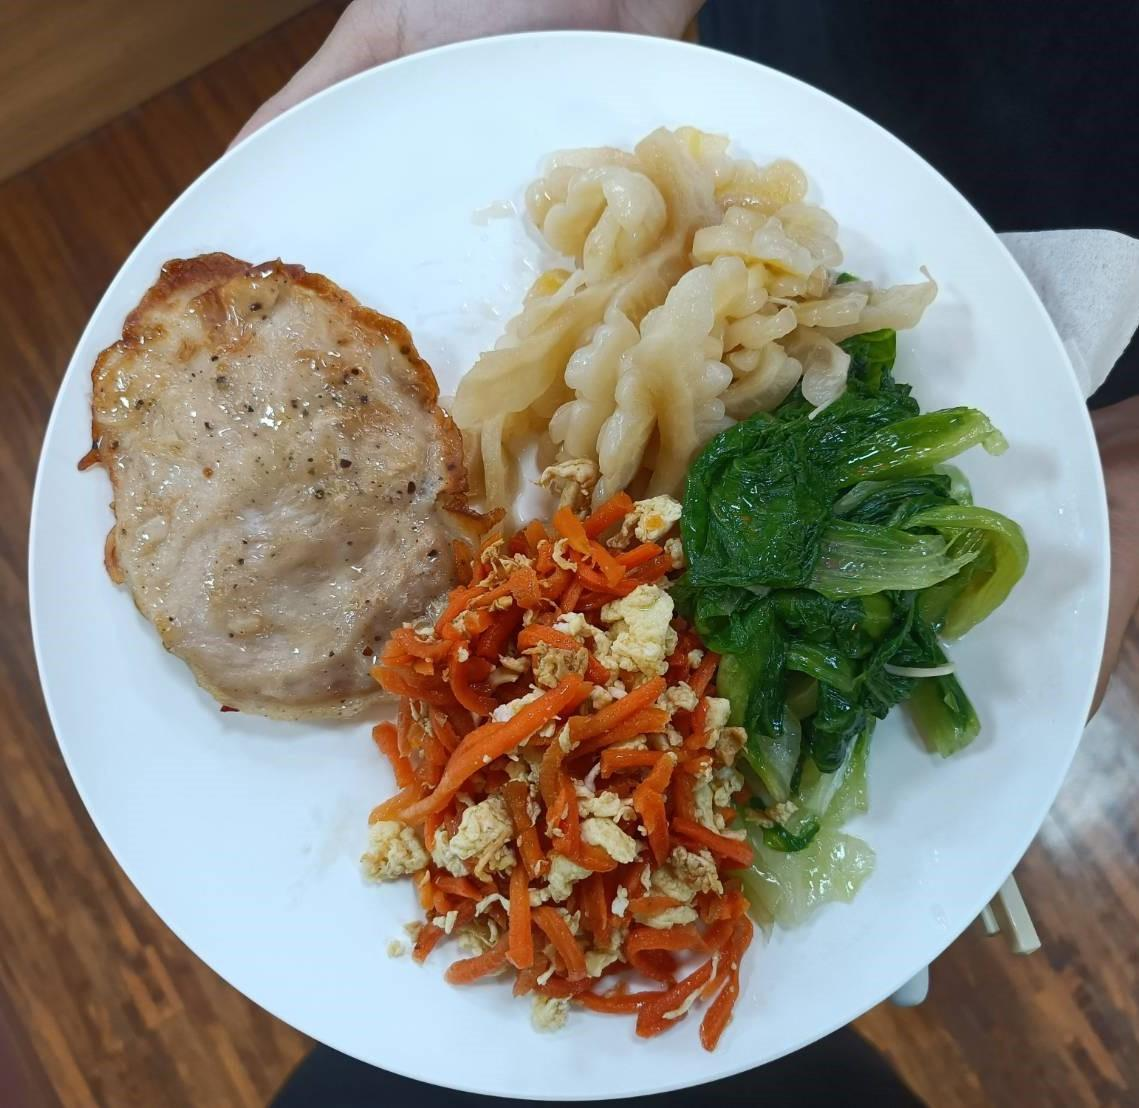big fried chicken leg: (18, 16, 1129, 1105)
braised fish fillet: (649, 358, 1016, 897), (455, 123, 901, 520), (406, 515, 751, 1001)
braised pork: (75, 253, 491, 717)
